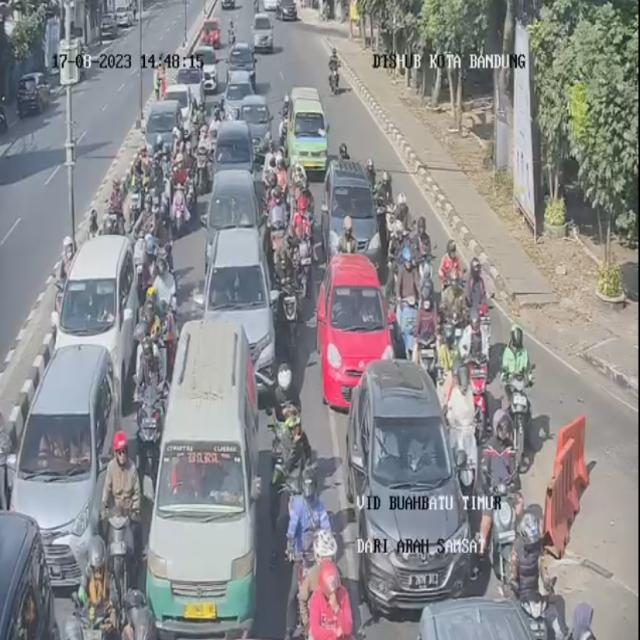cars: (157, 320, 264, 639), (354, 354, 474, 610), (14, 342, 125, 582), (50, 231, 138, 398), (321, 253, 394, 411), (205, 227, 284, 373), (326, 157, 384, 265), (202, 169, 260, 270), (417, 597, 550, 640), (284, 89, 327, 182), (214, 116, 260, 188), (238, 91, 276, 157), (149, 100, 185, 166), (230, 43, 260, 94), (165, 82, 196, 128), (223, 71, 249, 122), (196, 44, 222, 92), (254, 15, 278, 53), (203, 17, 223, 49), (258, 0, 279, 16), (220, 0, 239, 9)
motorcycle: (282, 458, 336, 639), (106, 441, 146, 630), (476, 434, 522, 598), (262, 360, 308, 480), (305, 540, 358, 640), (467, 376, 513, 488), (274, 410, 317, 518), (501, 323, 532, 458), (144, 264, 175, 394), (73, 556, 119, 640), (136, 344, 164, 477), (439, 266, 467, 380), (464, 312, 492, 415), (147, 246, 178, 339), (113, 583, 163, 640), (394, 248, 421, 352), (412, 213, 434, 326), (288, 192, 314, 285), (267, 183, 290, 286), (142, 217, 173, 283), (170, 164, 194, 240), (149, 160, 170, 240), (442, 240, 465, 308), (380, 170, 399, 246), (130, 164, 150, 236), (108, 175, 129, 235), (469, 253, 490, 312), (296, 175, 315, 240), (393, 194, 411, 262), (506, 311, 522, 381), (266, 169, 283, 229), (338, 217, 357, 265), (369, 158, 384, 209), (374, 169, 390, 216), (327, 45, 341, 96)
truck: (278, 0, 296, 22)
